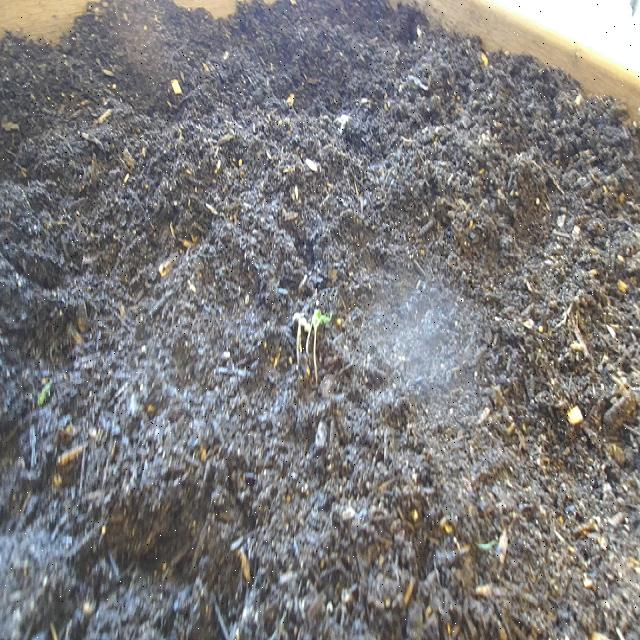Healthy: (290, 297, 337, 385)
